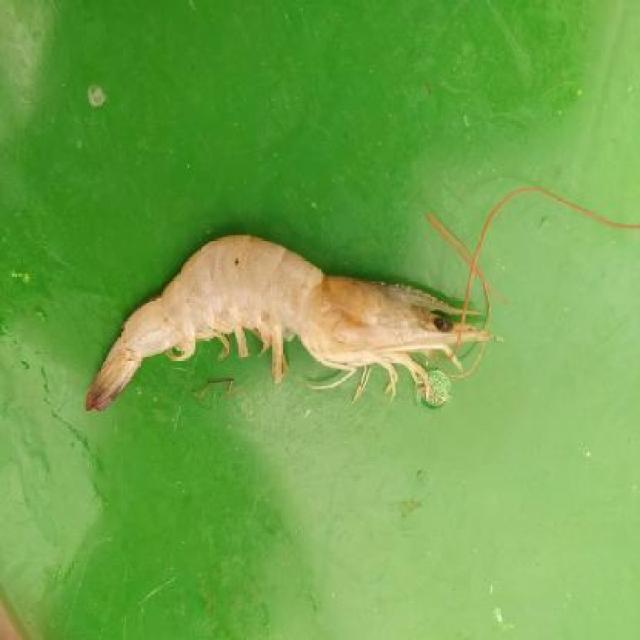shrimp: (83, 229, 504, 419)
